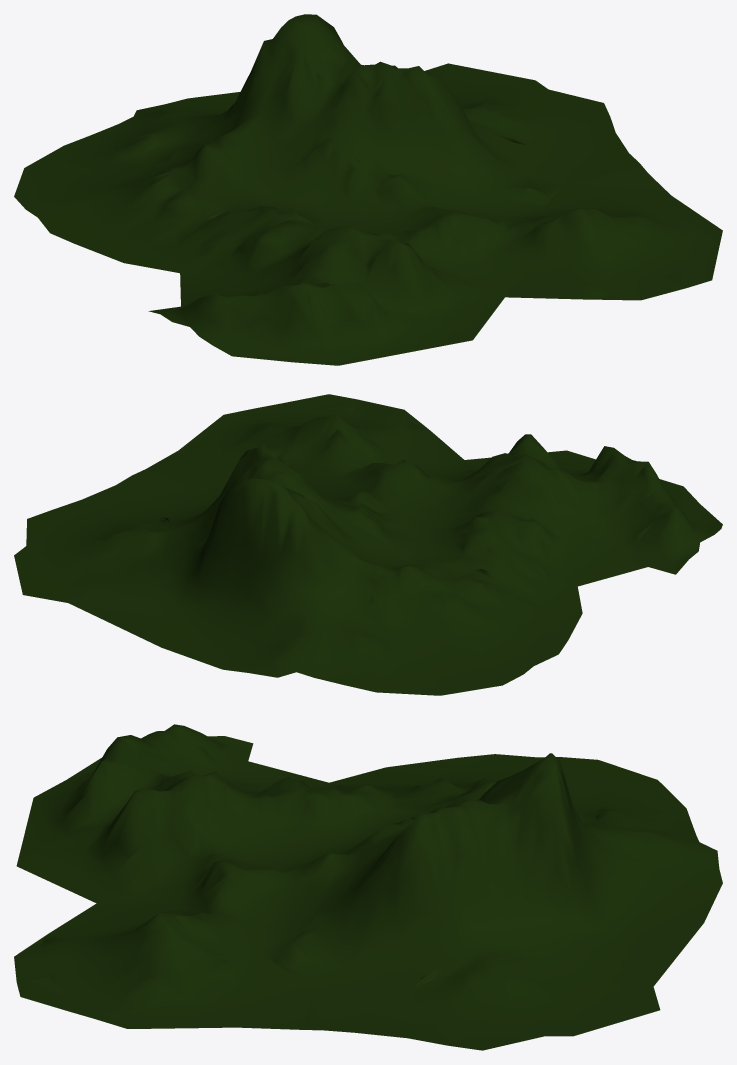
File: Mountain V02.FBX
3 renders of one model, top to bottom at view 1: azimuth 30°, elevation 25°; view 2: azimuth 150°, elevation 25°; view 3: azimuth 270°, elevation 25°, orthographic. The views are drawn at different scales.
Parts seen in each view (by area): view 1: Mountain V02; view 2: Mountain V02; view 3: Mountain V02.
Part boxes in pixels (box(x1,y1,x2,y2)): Mountain V02: box(14, 14, 722, 365); Mountain V02: box(14, 394, 722, 695); Mountain V02: box(14, 724, 722, 1050).
Bounding box in the file's own units: 17.01 × 3.82 × 16.8.
